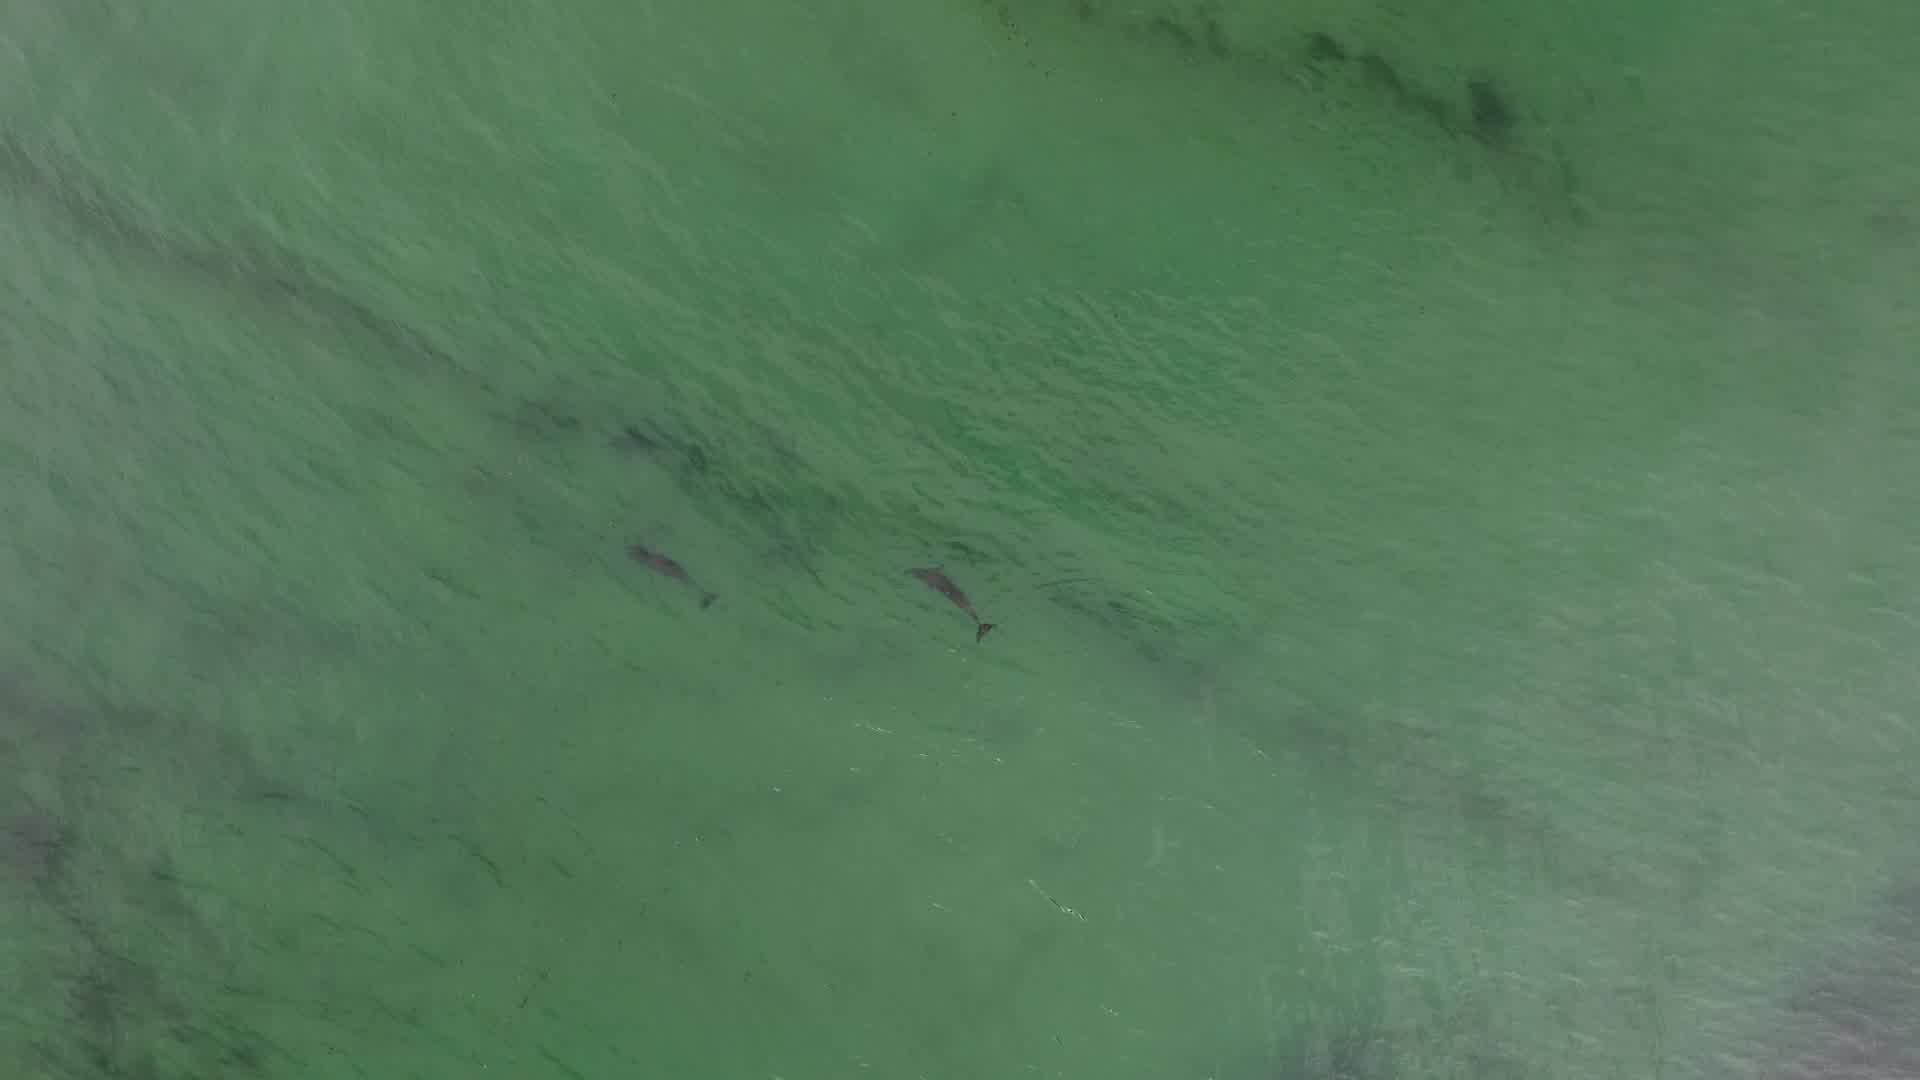dolphin: (866, 545, 1006, 651), (597, 521, 731, 617)
